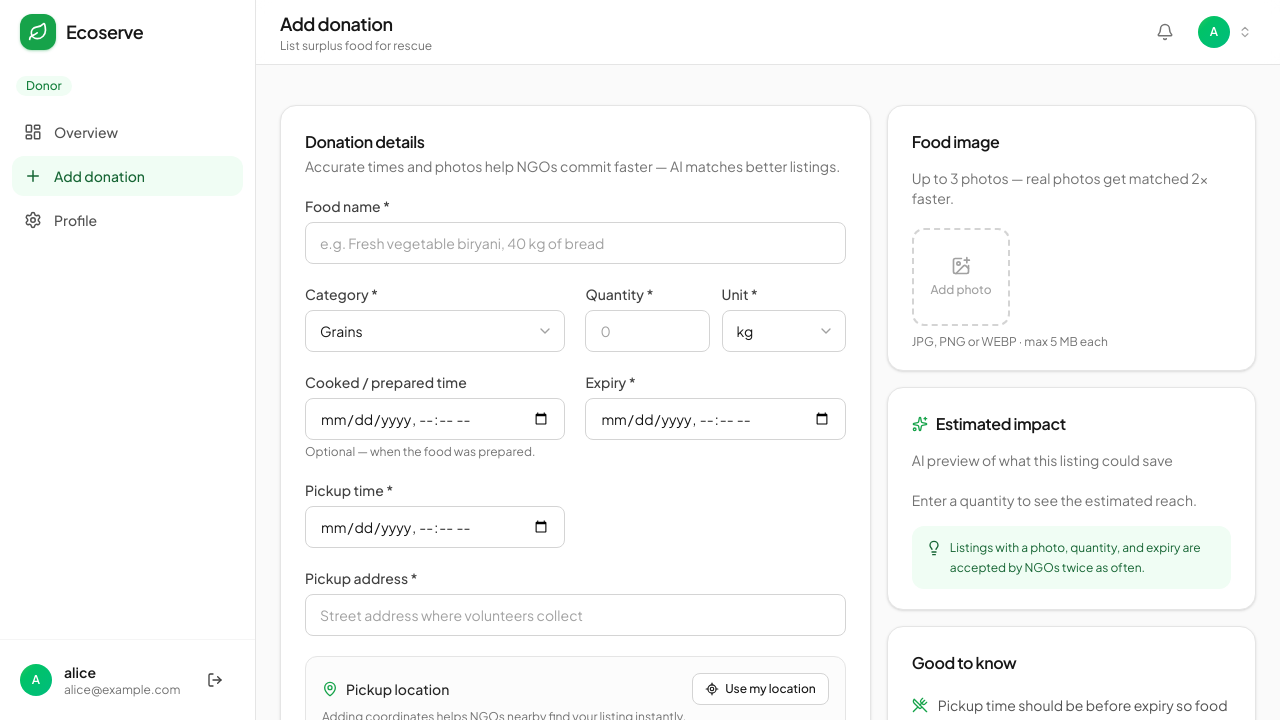
Test case: NewDonationPage › requires both latitude and longitude together before listing
In the field labelled "Food name *": coordinates (575, 243) 305,222 -> 846,264, type "Paneer Biryani"
In the number field labelled "Quantity *": coordinates (648, 331) 585,310 -> 710,352, type "10"
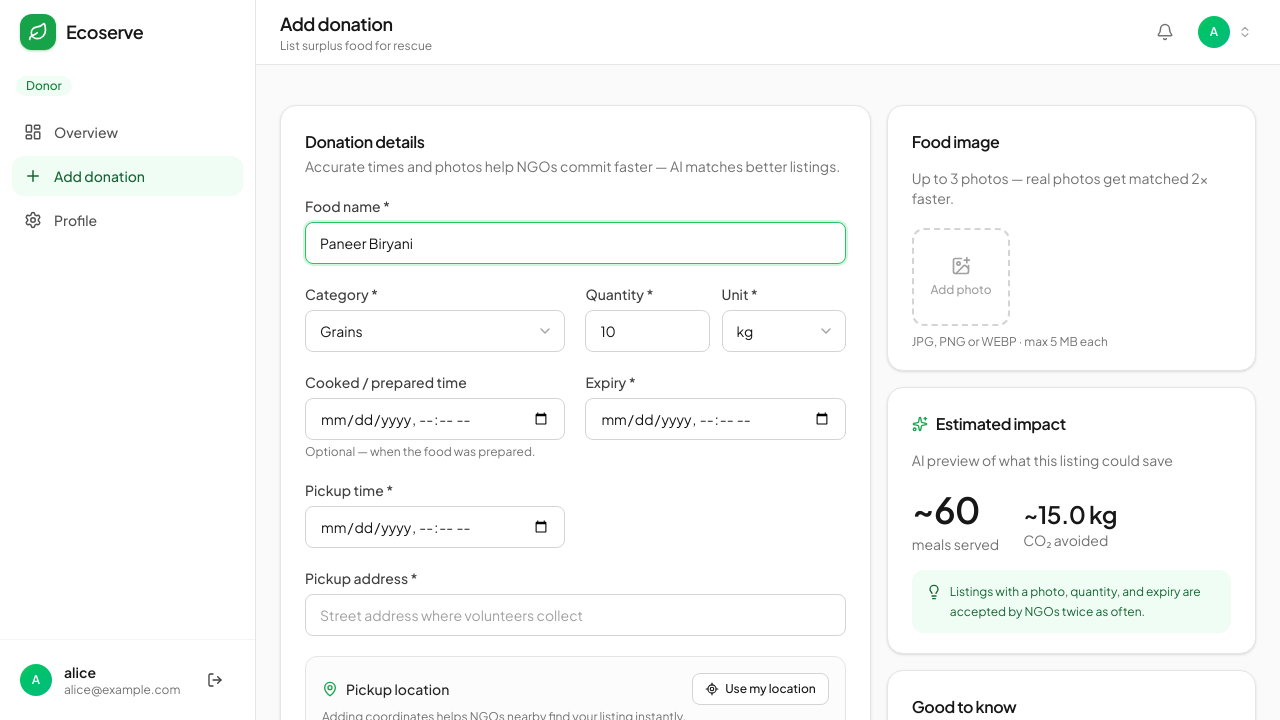
In the field labelled "Expiry *": coordinates (716, 419) 585,398 -> 846,440, type "2026-08-10T16:00"
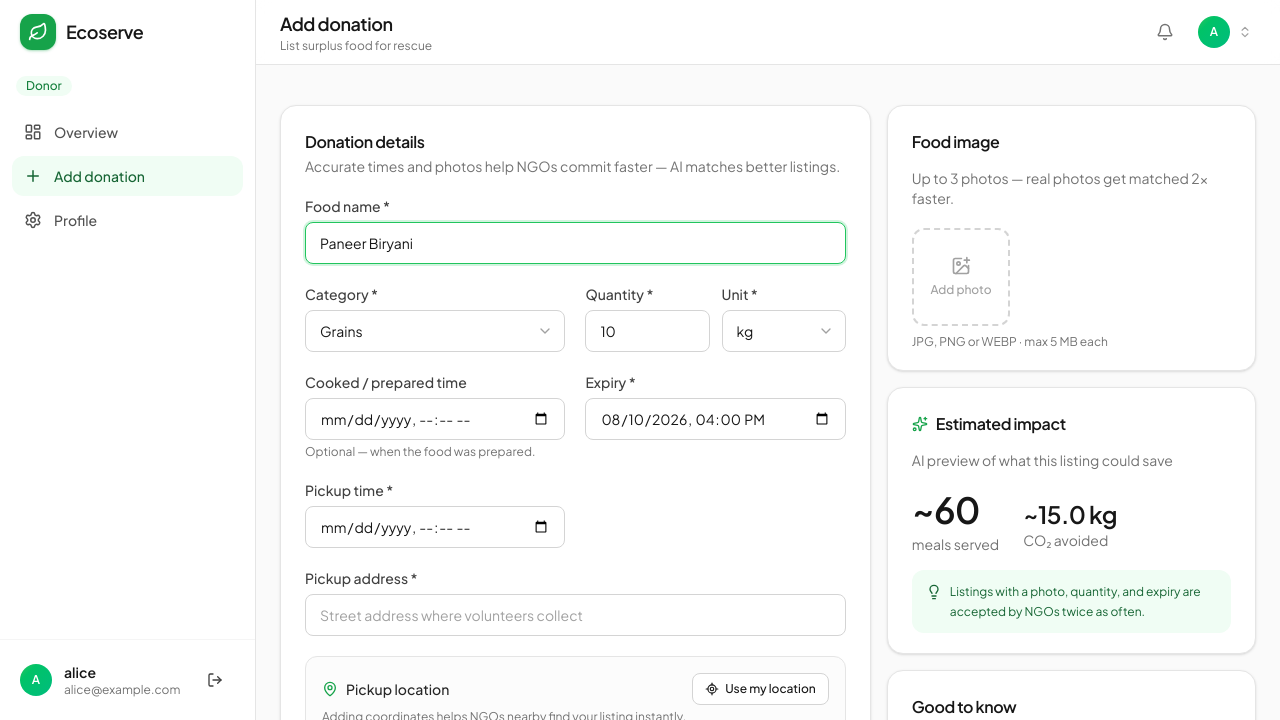
In the field labelled "Pickup time *": coordinates (435, 527) 305,506 -> 565,548, type "2026-08-10T14:00"
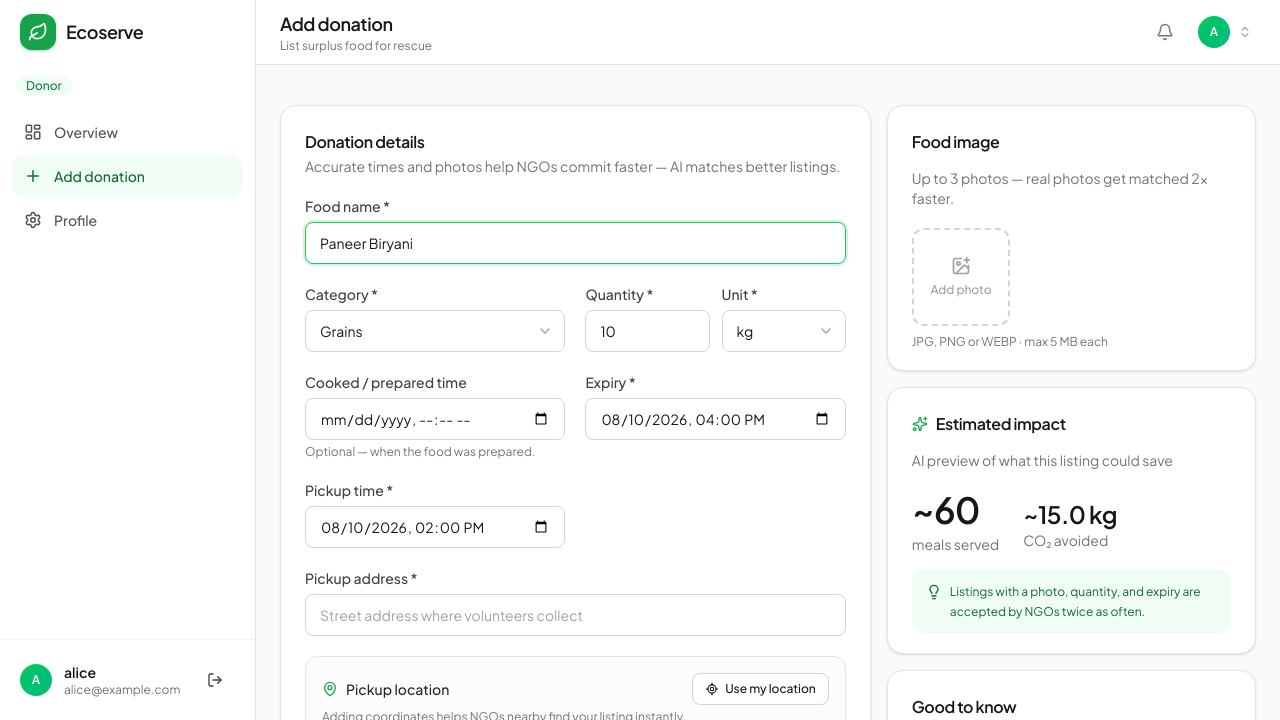
In the field labelled "Pickup address *": coordinates (575, 615) 305,594 -> 846,636, type "12 MG Road, Bengaluru"
(page scrolled)
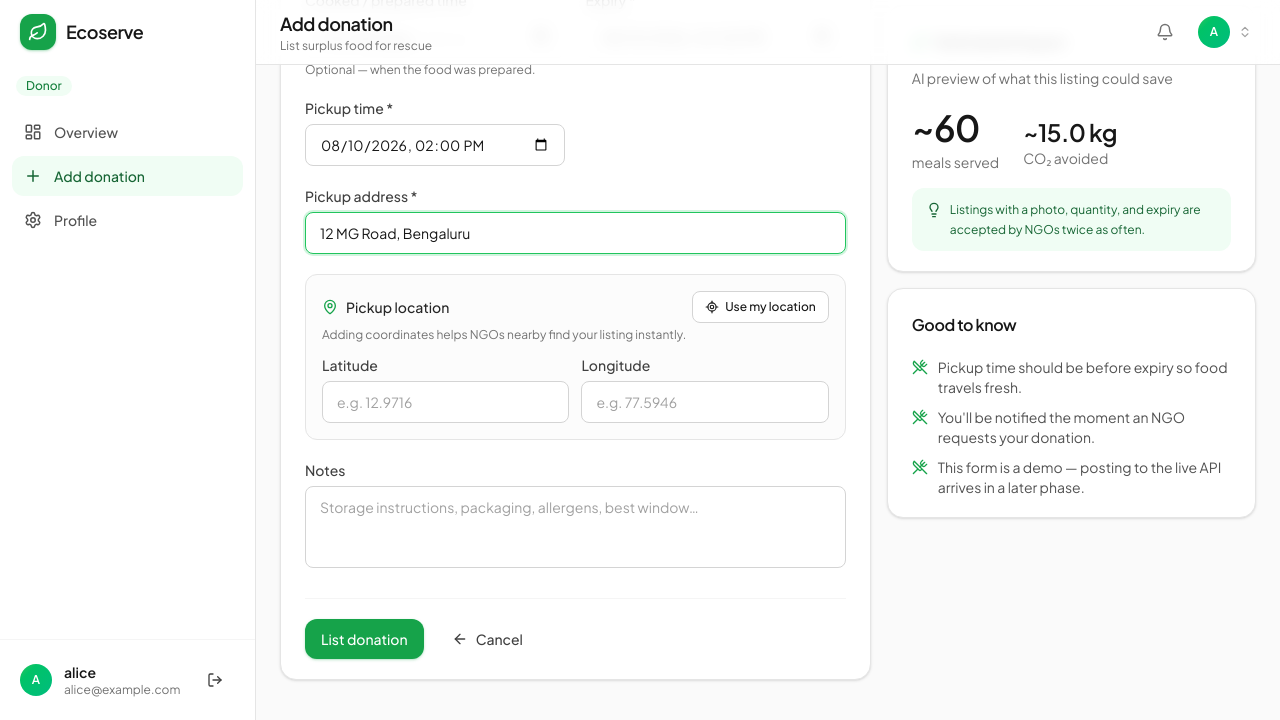
// Only one half of the pin — must be rejected.
In the number field labelled "Latitude": coordinates (446, 402) 322,381 -> 569,423, type "12.9716"
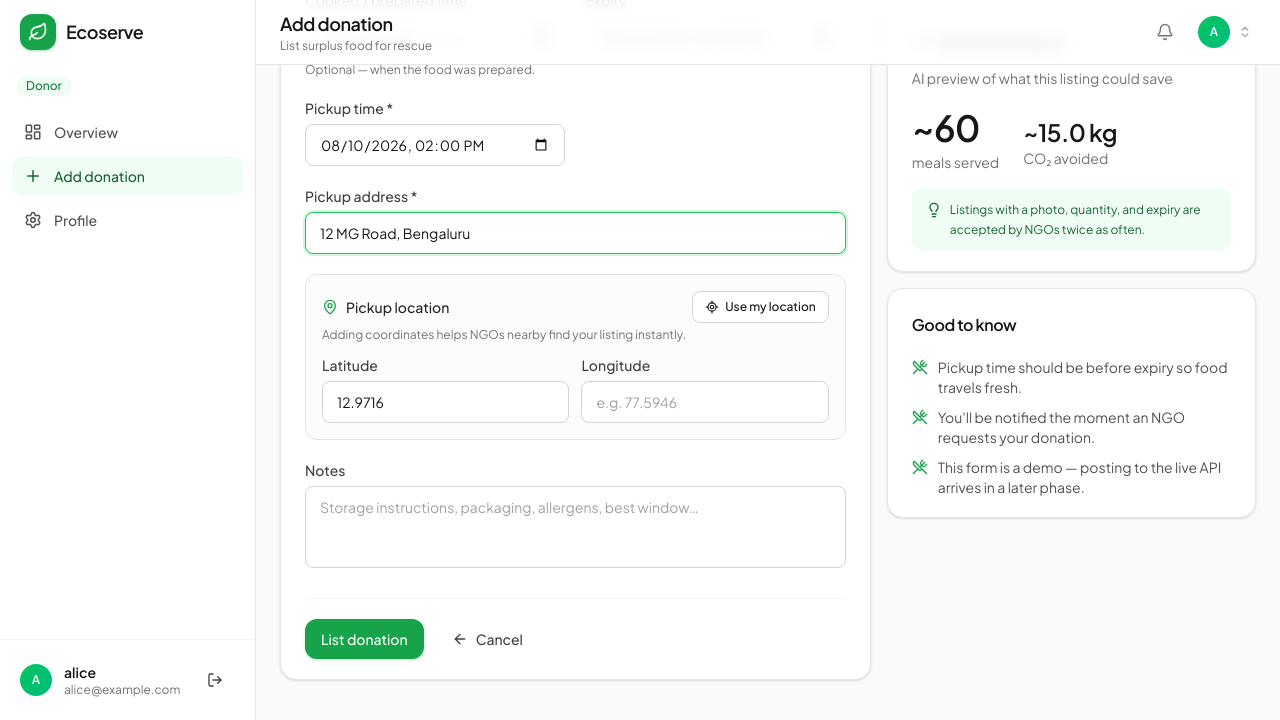
Click the button "List donation": coordinates (364, 639) 305,619 -> 424,659
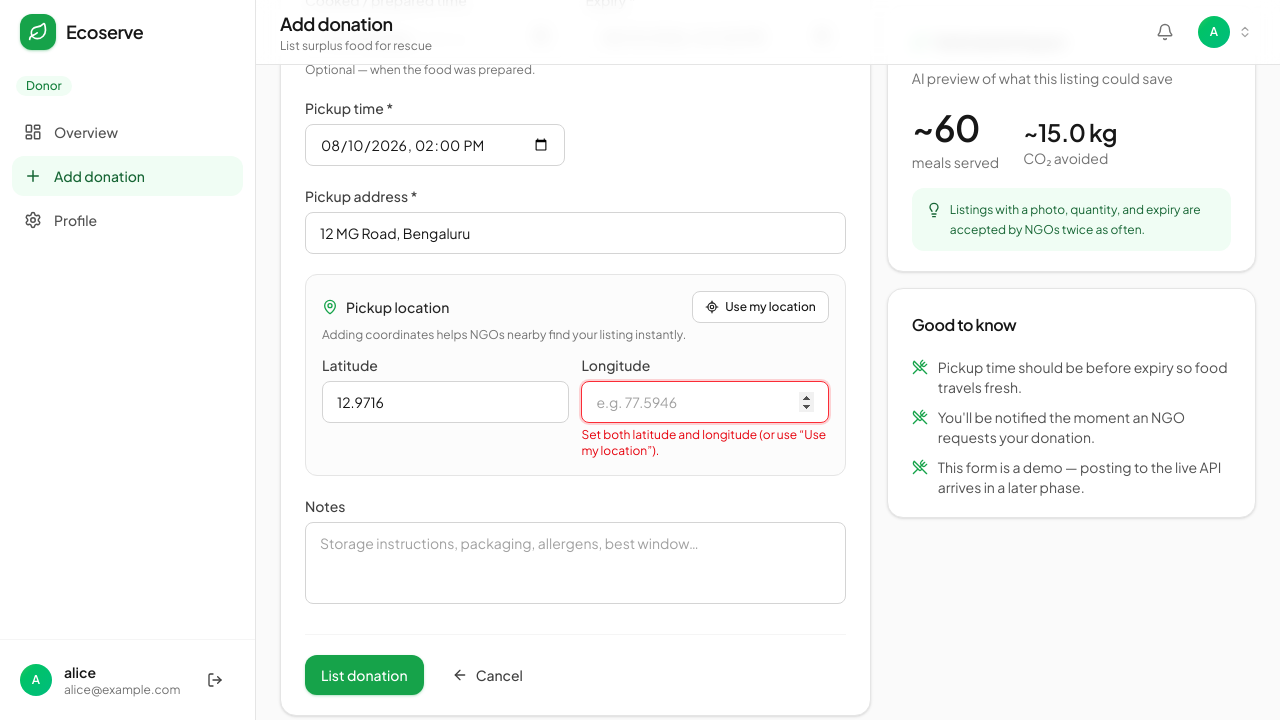
Now the text "Set both latitude and longitude (or use “Use my location”)." is shown, box 581,427 -> 829,459
